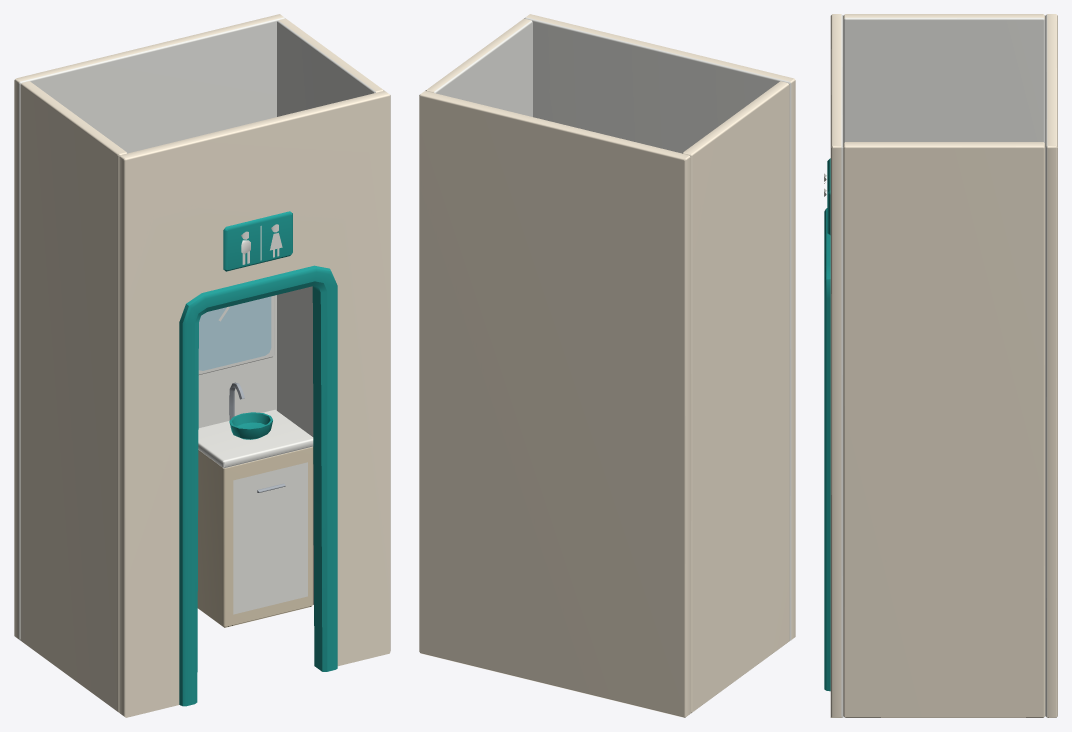
The model's file is Bano.fbx.
3 renders of one model, left to right at view 1: azimuth 30°, elevation 25°; view 2: azimuth 150°, elevation 25°; view 3: azimuth 270°, elevation 25°, orthographic. The views are drawn at different scales.
Parts seen in each view (by area): view 1: Bano; view 2: Bano; view 3: Bano.
Part boxes in pixels (box(x1,y1,x2,y2)): Bano: box(14, 14, 390, 717); Bano: box(419, 14, 795, 717); Bano: box(824, 14, 1057, 717).
Size of the model in its own units: 5 by 10 by 3.71.
1 material, 1 textured.
